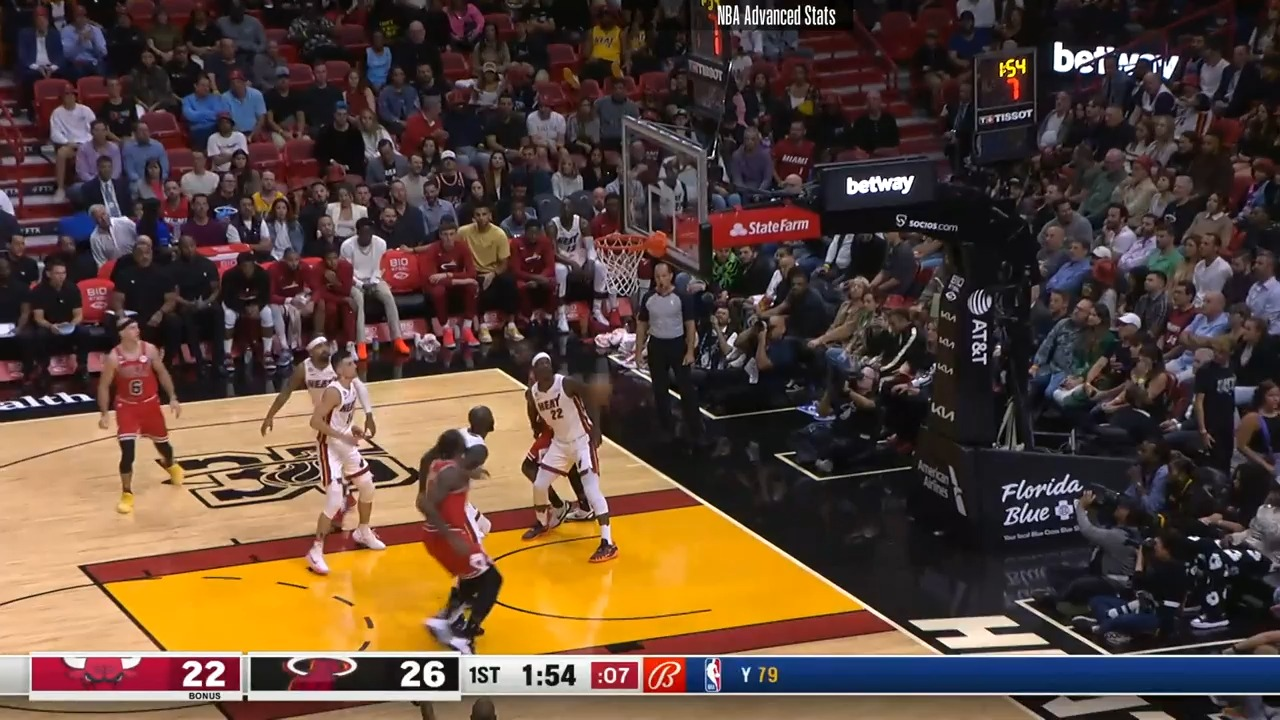net: (593, 225, 671, 296)
player: (408, 425, 502, 654), (287, 368, 384, 579), (93, 317, 183, 514), (539, 356, 620, 571), (517, 353, 582, 542), (255, 335, 348, 433), (454, 404, 502, 544)
referee: (636, 262, 700, 434)
